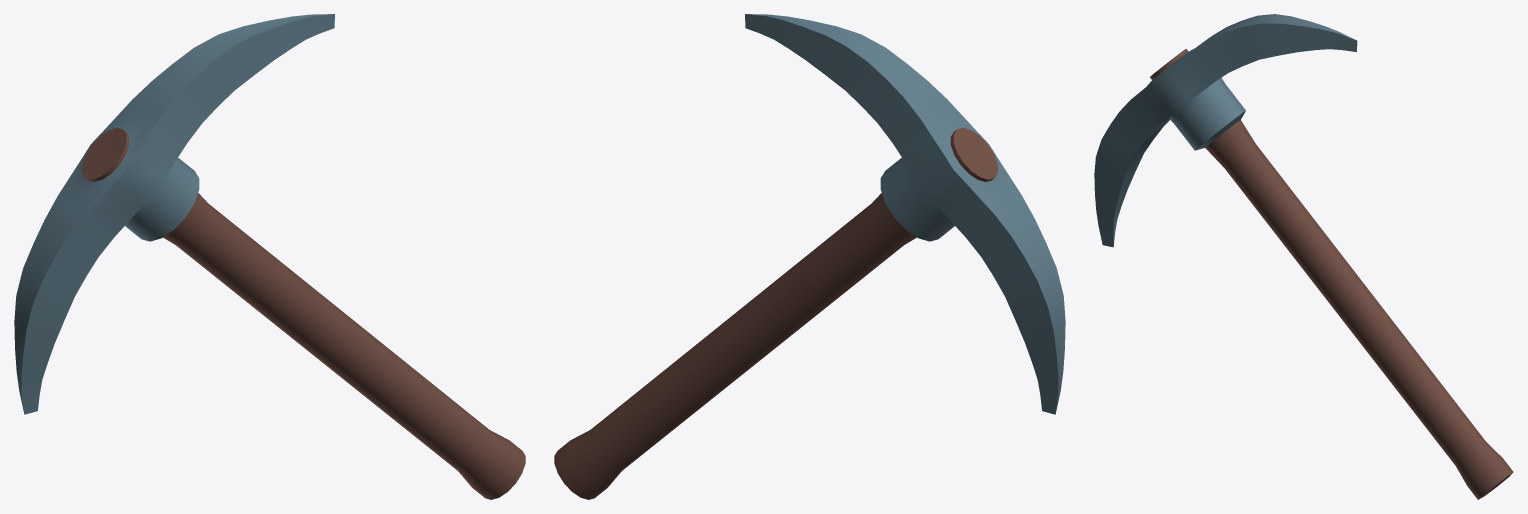
Rendered from pick.glb.
3 views of the same model, side by side, from view 1: azimuth 30°, elevation 25°; view 2: azimuth 150°, elevation 25°; view 3: azimuth 330°, elevation 25° (orthographic). The views are drawn at different scales.
Visible parts, largest first — view 1: Circle.2583; view 2: Circle.2583; view 3: Circle.2583.
Boxes of the visible parts, bbox=[...] form: Circle.2583: bbox=[14, 14, 525, 499]; Circle.2583: bbox=[554, 14, 1065, 499]; Circle.2583: bbox=[1094, 14, 1513, 499].
Bounding box in the file's own units: 2.1 × 2.1 × 0.256.
1 material, 1 textured.
